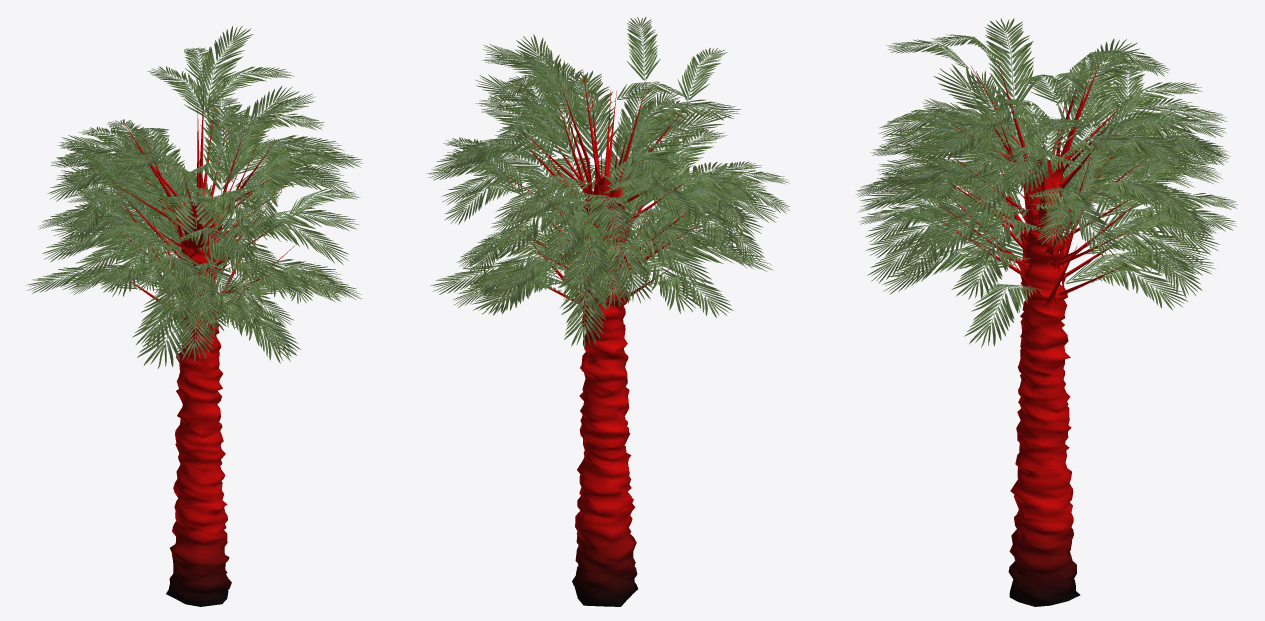
File: Palm_3_12.fbx
The picture shows the model from 3 angles, left to right: view 1: azimuth 30°, elevation 25°; view 2: azimuth 150°, elevation 25°; view 3: azimuth 270°, elevation 25°; orthographic projection. The views are drawn at different scales.
Visible parts, largest first — view 1: Palm_3_12; view 2: Palm_3_12; view 3: Palm_3_12.
Boxes of the visible parts, x1,y1,x2,y2 form: Palm_3_12: (26, 26, 363, 606); Palm_3_12: (426, 17, 789, 606); Palm_3_12: (856, 18, 1237, 606).
Size of the model in its own units: 4398 by 6862 by 4494.
